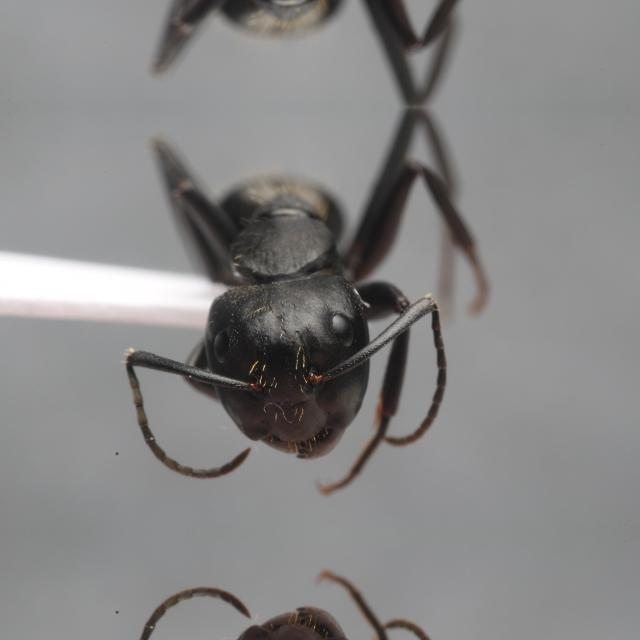Camponotus: (89, 106, 491, 500), (89, 0, 491, 106)
